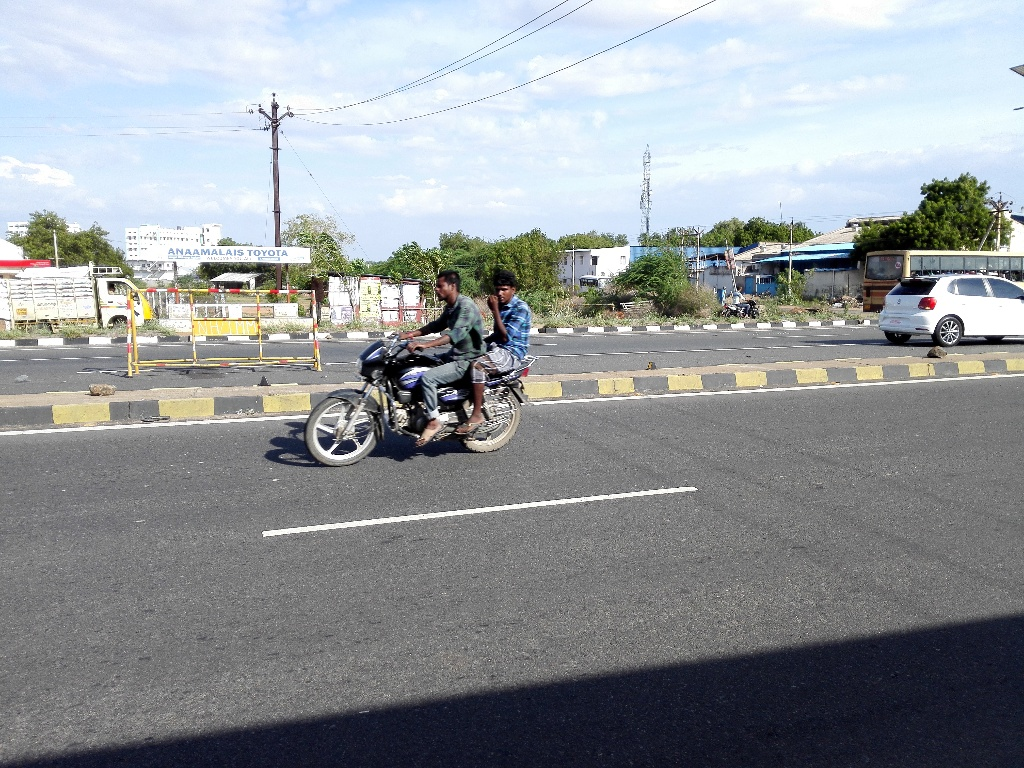biker: (293, 235, 548, 480)
nohelmet: (484, 263, 526, 318), (427, 260, 469, 315)
